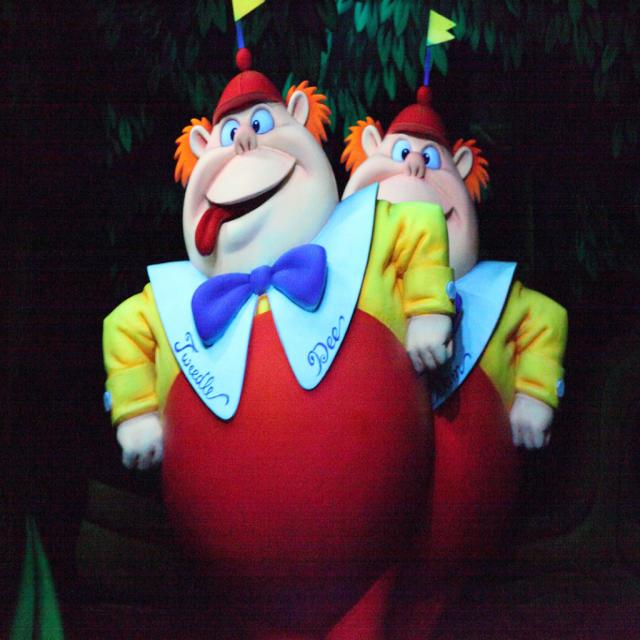Toy: (95, 41, 460, 640), (340, 8, 568, 640)
